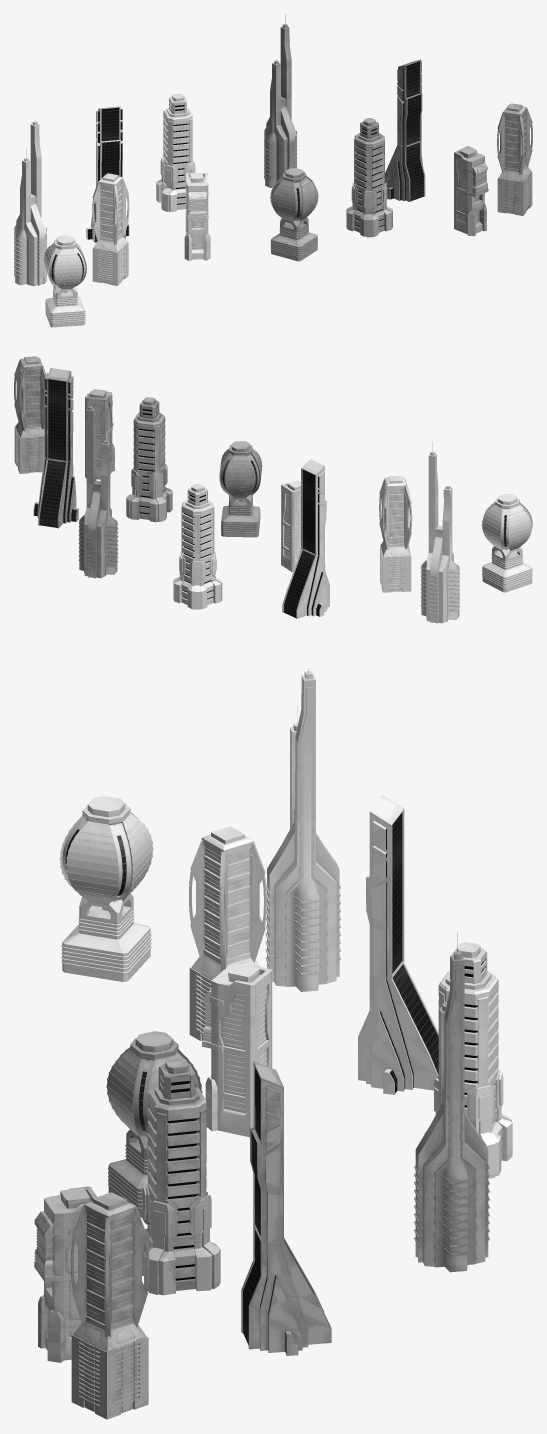
File: sci-fi_buildings_pack.glb
3 views of the same model, one above another, from view 1: azimuth 30°, elevation 25°; view 2: azimuth 150°, elevation 25°; view 3: azimuth 270°, elevation 25° (orthographic). The views are drawn at different scales.
Parts seen in each view (by area): view 1: Building6b, Building2b, Building3, Building4, Building4b, Building3b, Building1b, Building2, Building1, Building5b, Building5, Building6; view 2: Building6b, Building6, Building2, Building3b, Building3, Building2b, Building1, Building4, Building4b, Building1b, Building5, Building5b; view 3: Building4b, Building3b, Building2b, Building6, Building3, Building1, Building6b, Building4, Building5, Building2, Building1b, Building5b.
Boxes of the visible parts, x1,y1,x2,y2 form: Building6b: (385,59,425,202); Building2b: (346,118,392,237); Building3: (14,120,47,286); Building4: (92,173,129,285); Building4b: (497,103,532,215); Building3b: (264,14,297,187); Building1b: (270,168,318,261); Building2: (156,93,195,211); Building1: (43,235,86,327); Building5b: (454,146,488,236); Building5: (184,172,210,260); Building6: (86,106,129,242); Building6b: (33,368,78,528); Building6: (282,459,329,618); Building2: (173,484,222,609); Building3b: (78,396,118,578); Building3: (420,441,460,623); Building2b: (126,397,172,522); Building1: (481,494,532,592); Building4: (379,475,412,592); Building4b: (14,356,46,473); Building1b: (219,441,262,537); Building5: (281,480,301,572); Building5b: (85,389,114,479); Building4b: (70,1192,149,1419); Building3b: (414,933,489,1272); Building2b: (142,1058,220,1295); Building6: (358,795,438,1094); Building3: (265,669,340,991); Building1: (59,796,153,981); Building6b: (241,1061,331,1355); Building4: (189,826,266,1040); Building5: (202,963,272,1137); Building2: (424,942,512,1178); Building1b: (106,1031,202,1217); Building5b: (34,1186,97,1362).
Bounding box in the file's own units: 38.35 × 12.44 × 16.28.
14 materials, 14 textured.
